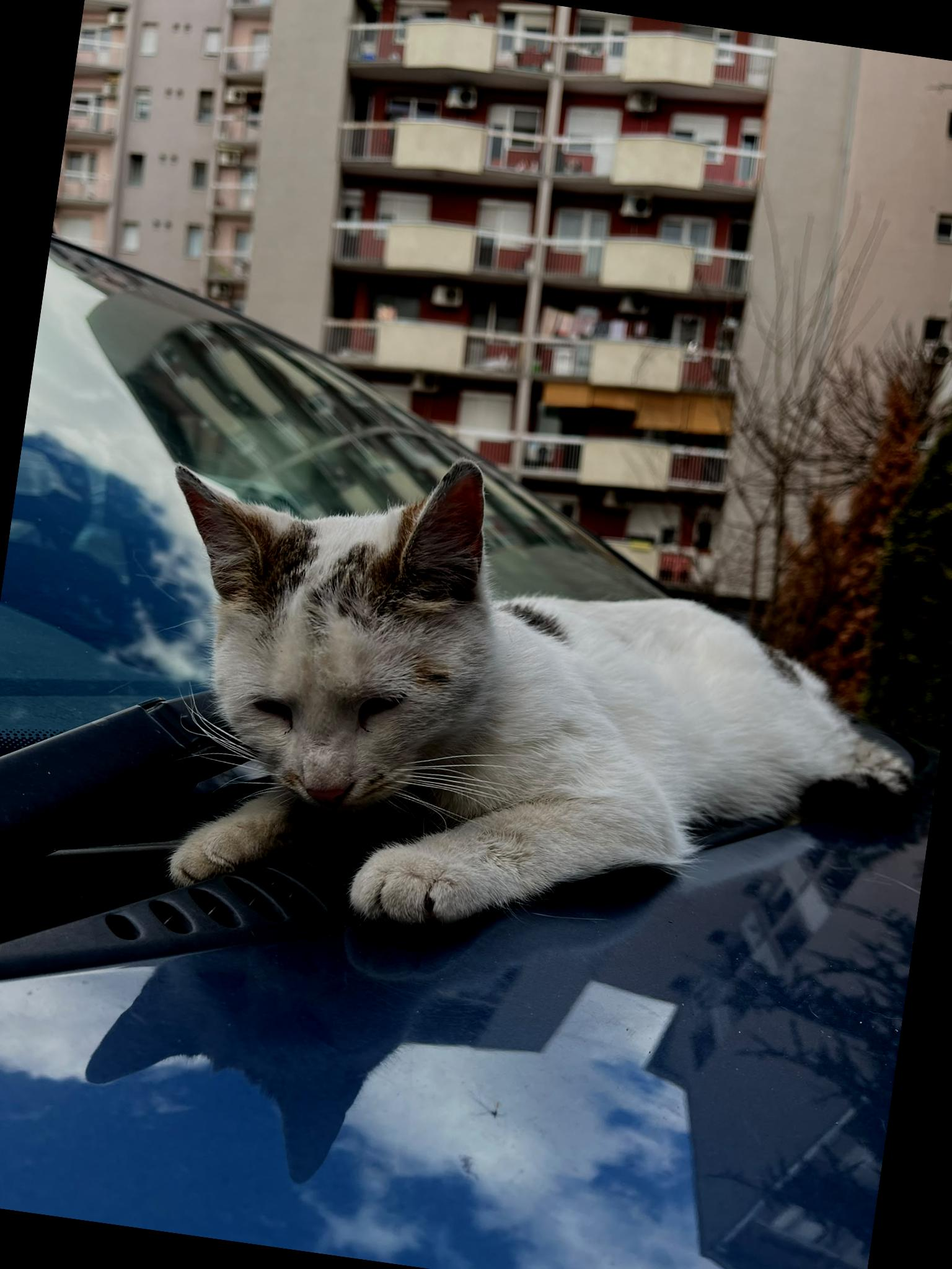macka: (114, 422, 942, 995)
